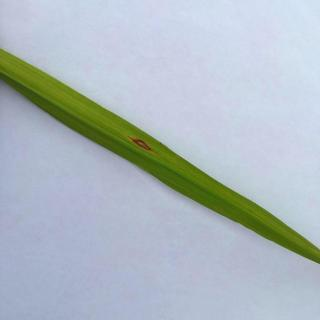Blast: (119, 125, 164, 165)
